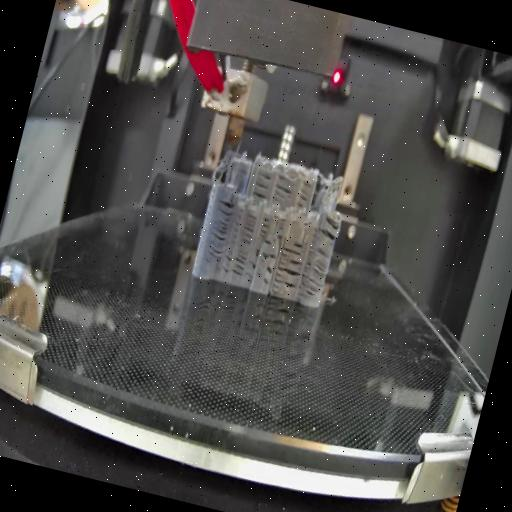cracks: (296, 245, 332, 302), (206, 196, 236, 260), (270, 256, 303, 298), (220, 248, 248, 278), (270, 176, 296, 205), (250, 168, 272, 200), (316, 213, 341, 241), (239, 212, 259, 246), (243, 246, 260, 283), (294, 180, 313, 210), (281, 238, 304, 258), (260, 266, 274, 289), (274, 218, 287, 242), (258, 218, 270, 238), (260, 250, 276, 262), (262, 239, 274, 248)
